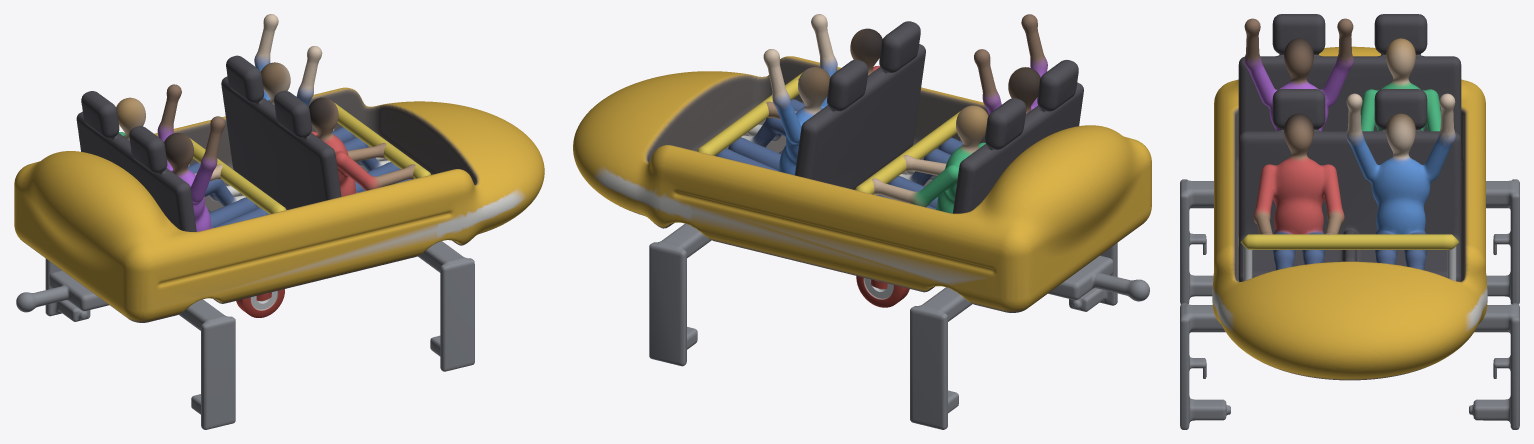
File: coaster-car.glb
3 views of the same model, side by side, from view 1: azimuth 30°, elevation 25°; view 2: azimuth 150°, elevation 25°; view 3: azimuth 270°, elevation 25° (orthographic). The views are drawn at different scales.
Parts seen in each view (by area): view 1: shell, seats, riders, steel, pad, roadWheel; view 2: shell, seats, riders, steel, pad, roadWheel; view 3: shell, seats, riders, steel, pad.
Boxes of the visible parts, x1,y1,x2,y2 form: shell: [14, 87, 544, 322]; seats: [76, 55, 341, 231]; riders: [116, 14, 415, 231]; steel: [16, 128, 474, 429]; pad: [189, 102, 430, 214]; roadWheel: [236, 289, 284, 317]; shell: [573, 56, 1151, 312]; seats: [779, 21, 1083, 213]; riders: [715, 14, 1047, 213]; steel: [649, 101, 1149, 429]; pad: [697, 72, 960, 194]; roadWheel: [856, 276, 909, 307]; shell: [1212, 46, 1487, 380]; seats: [1238, 14, 1461, 281]; riders: [1244, 18, 1455, 270]; steel: [1180, 179, 1519, 429]; pad: [1240, 234, 1459, 249].
Size of the model in its own units: 4.06 by 2.11 by 2.2.
